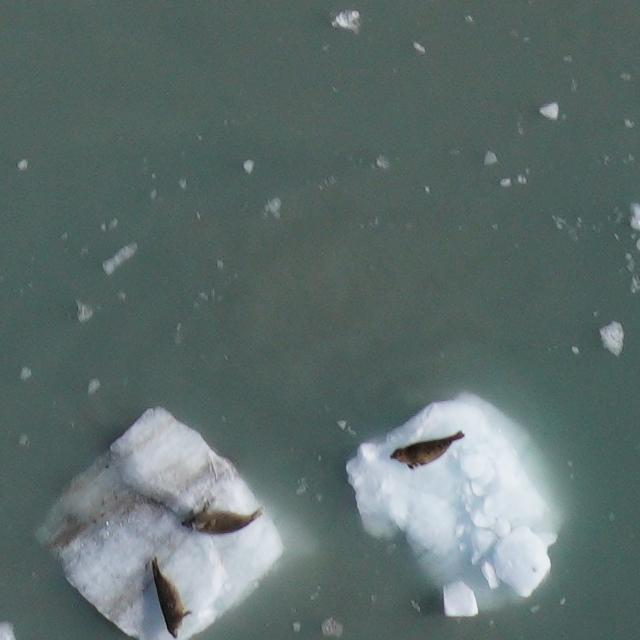seal: (387, 416, 470, 479)
